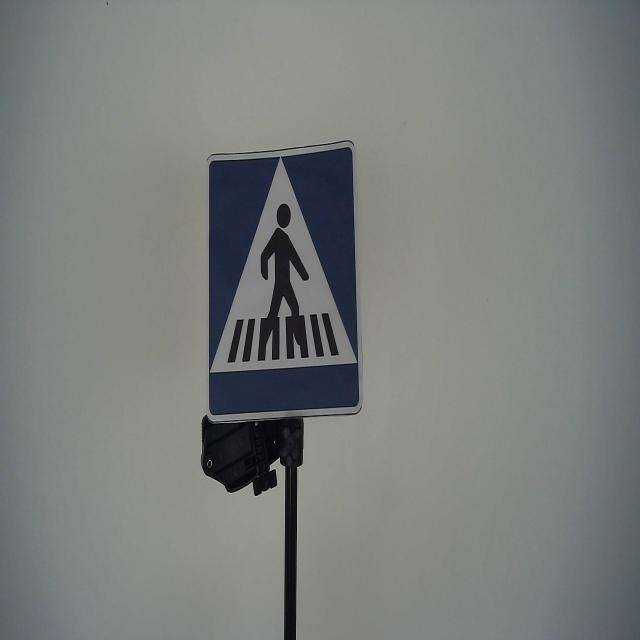crosswalk_sign: (204, 138, 363, 423)
